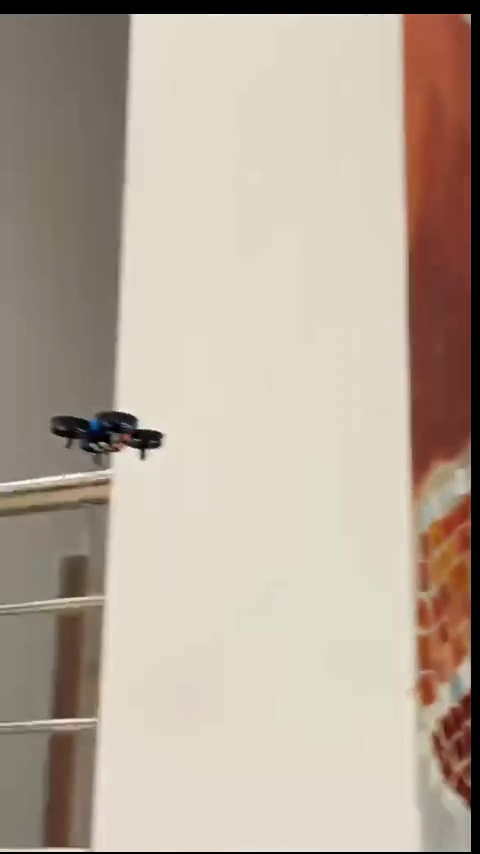drone: (49, 406, 158, 468)
